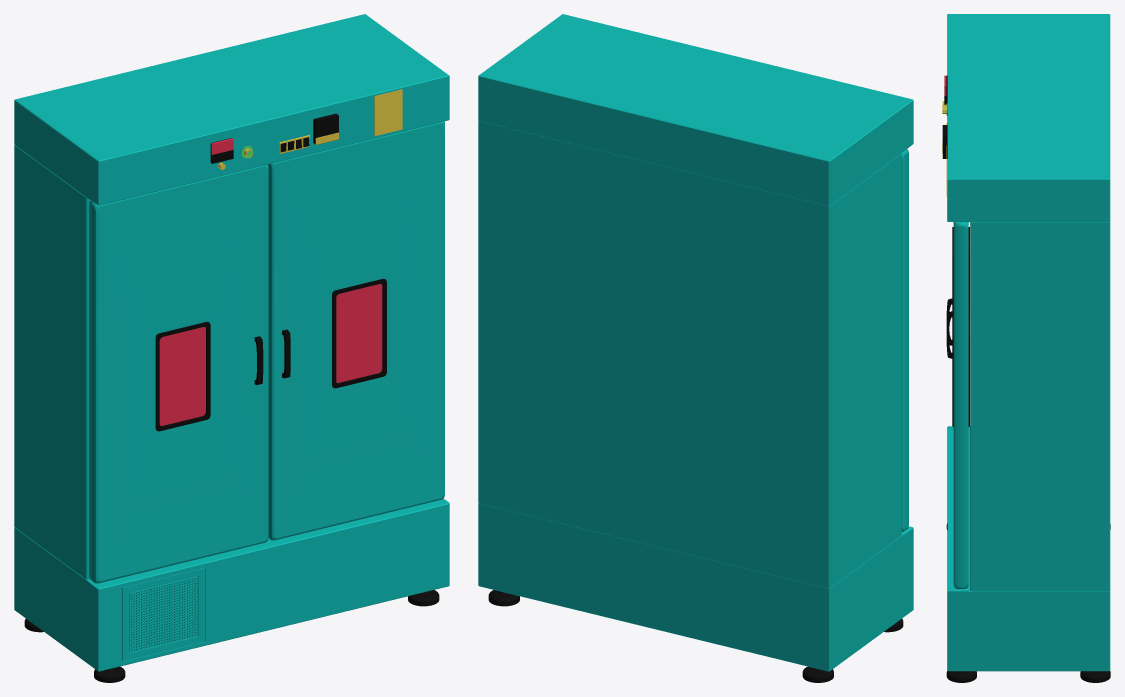
File: 低溫培養箱.fbx
3 views of the same model, side by side, from view 1: azimuth 30°, elevation 25°; view 2: azimuth 150°, elevation 25°; view 3: azimuth 270°, elevation 25° (orthographic). The views are drawn at different scales.
Visible parts, largest first — view 1: 立方體.008, Cube, Cube.002, 立方體, 圓柱體.002, 立方體.001; view 2: Cube, 立方體.008, 圓柱體.002; view 3: Cube, 立方體.008, 圓柱體.002.
Part boxes in pixels (x1,y1,x2,y2): 立方體.008: (89, 121, 444, 583); Cube: (14, 14, 449, 671); Cube.002: (129, 577, 198, 652); 立方體: (374, 89, 402, 136); 圓柱體.002: (24, 590, 439, 682); 立方體.001: (313, 113, 338, 144); Cube: (478, 14, 913, 671); 立方體.008: (901, 149, 908, 531); 圓柱體.002: (488, 590, 903, 682); Cube: (947, 14, 1110, 671); 立方體.008: (946, 222, 969, 588); 圓柱體.002: (946, 523, 1110, 682).
Bounding box in the file's own units: 278 × 397 × 120.
